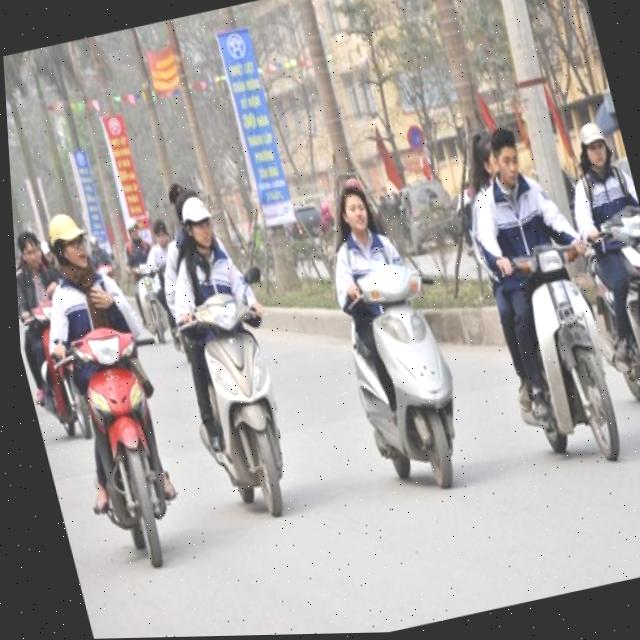motorcycle: (465, 190, 640, 483), (158, 260, 317, 532), (50, 315, 205, 585), (325, 260, 486, 508), (574, 201, 640, 425), (17, 293, 89, 449), (126, 254, 189, 358)
